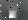person: (11, 8, 21, 18)
